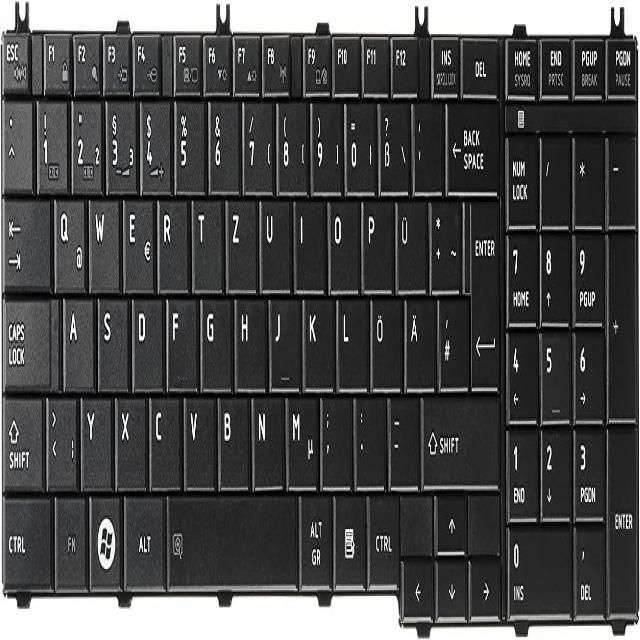0: (343, 91, 375, 191)
1: (34, 92, 67, 192)
2: (69, 93, 102, 194)
3: (103, 92, 136, 192)
4: (138, 94, 170, 193)
5: (172, 94, 204, 190)
6: (206, 91, 238, 191)
7: (241, 91, 273, 191)
8: (275, 92, 307, 192)
9: (309, 91, 341, 192)
a: (60, 289, 93, 388)
accent: (410, 91, 441, 188)
ae: (402, 286, 434, 387)
alt-left: (121, 485, 163, 586)
altgr-right: (297, 484, 331, 585)
b: (214, 386, 248, 487)
c: (146, 387, 179, 486)
caret: (0, 91, 31, 188)
comma: (318, 386, 349, 484)
d: (129, 287, 161, 387)
del: (444, 91, 498, 191)
e: (119, 189, 153, 292)
enter: (462, 198, 500, 387)
f: (164, 287, 196, 387)
g: (197, 286, 229, 387)
h: (232, 287, 264, 387)
hash: (435, 288, 467, 386)
i: (291, 189, 323, 287)
j: (267, 287, 298, 387)
k: (300, 286, 332, 387)
keyboard: (2, 26, 638, 620)
l: (335, 287, 366, 387)
less: (43, 387, 76, 486)
m: (283, 385, 316, 485)
minus: (385, 387, 417, 482)
n: (249, 385, 281, 485)
o: (325, 189, 357, 289)
oe: (368, 287, 399, 387)
p: (358, 189, 391, 287)
plus: (426, 189, 460, 287)
point: (352, 387, 383, 482)
q: (50, 189, 85, 290)
r: (154, 189, 187, 290)
s: (95, 289, 127, 388)
shift-left: (0, 389, 41, 490)
shift-lock: (1, 290, 58, 387)
shift-right: (419, 383, 498, 484)
space: (166, 485, 295, 585)
ss: (376, 91, 407, 189)
strg-left: (0, 489, 50, 586)
strg-right: (365, 484, 397, 583)
t: (189, 189, 221, 287)
tab: (0, 189, 49, 287)
u: (257, 189, 288, 289)
ue: (392, 188, 425, 290)
v: (181, 386, 213, 487)
w: (86, 189, 118, 290)
x: (112, 387, 145, 486)
y: (78, 389, 110, 487)
z: (223, 189, 255, 290)
